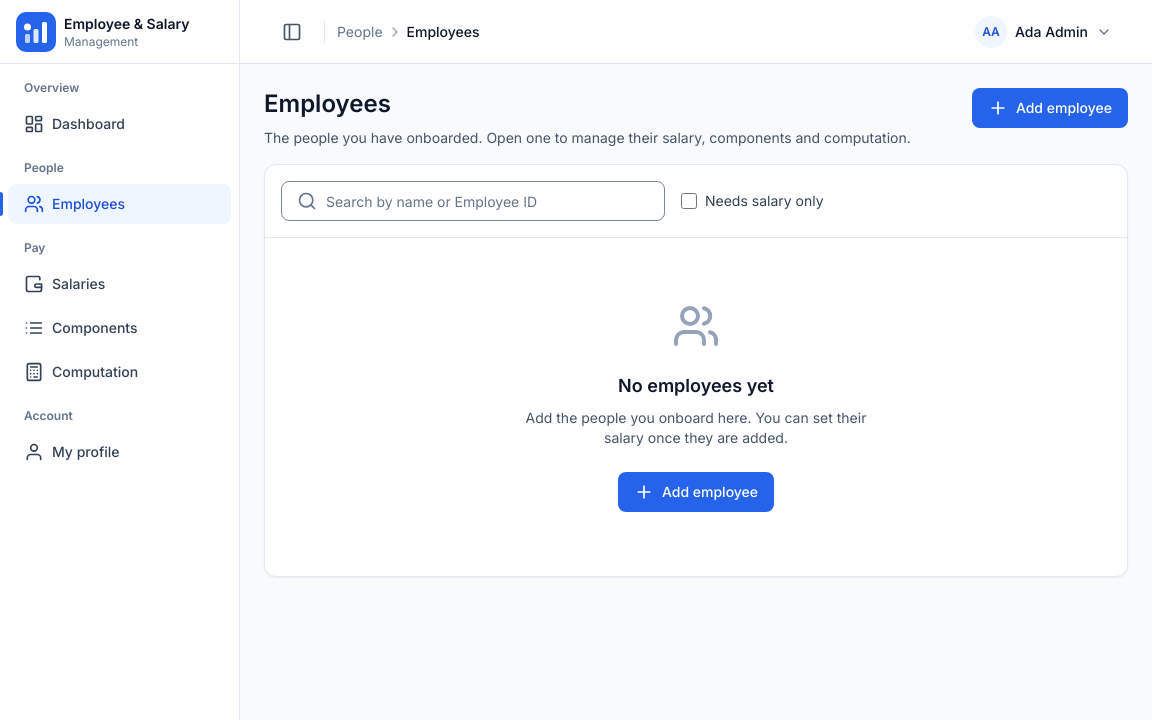
Test: Employees page › adding › rejects a hire date in the future
Expected: the heading "No employees yet" is shown, x1=618 y1=372 x2=774 y2=400
Click the 1st button "Add employee": (1050, 108) x1=972 y1=88 x2=1128 y2=128
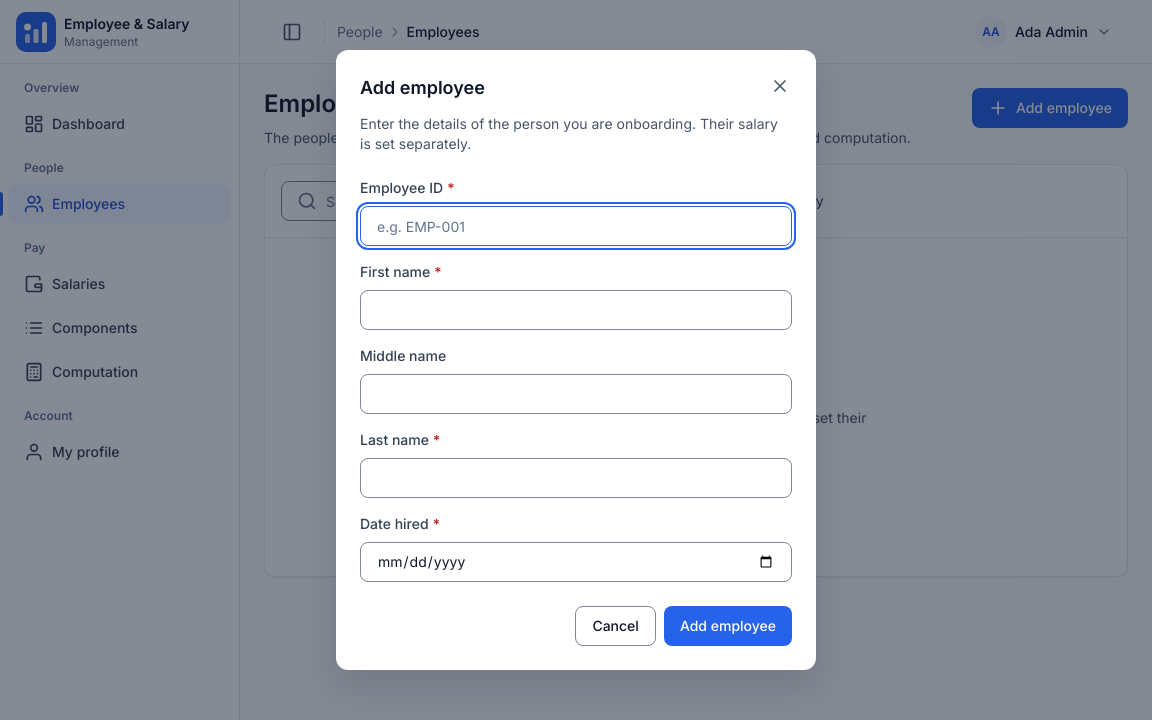
In the field labelled "Employee ID*": (576, 226) x1=360 y1=206 x2=792 y2=246, type "EMP-901"
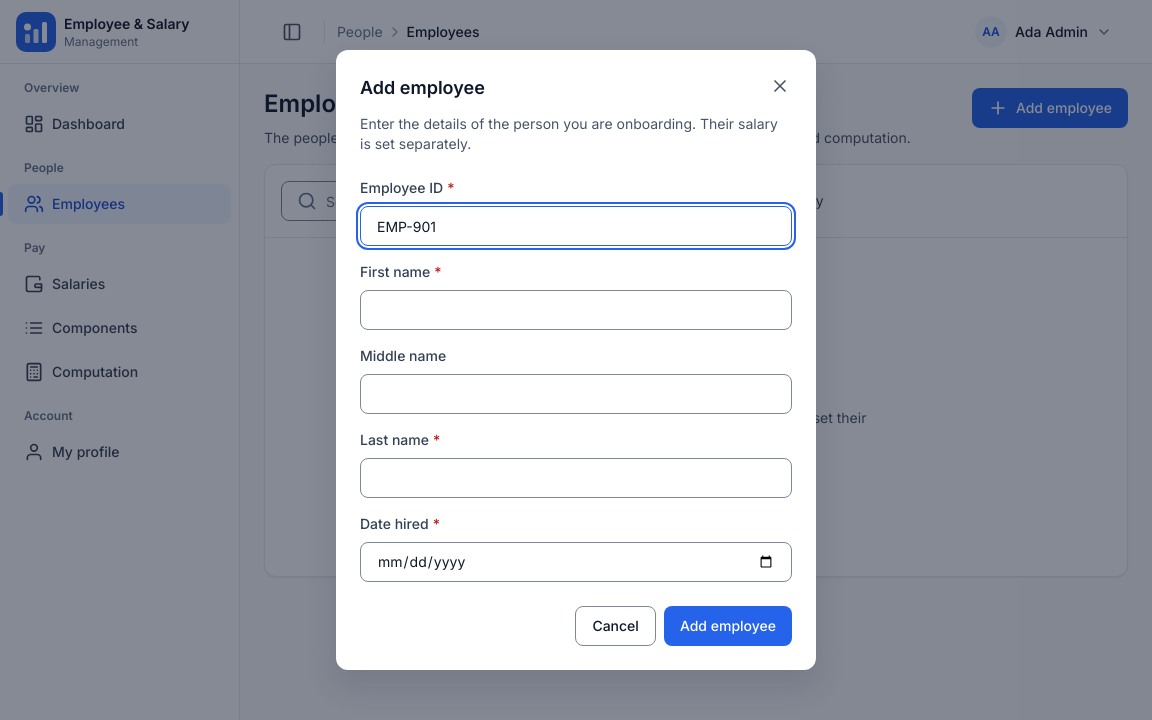
In the field labelled "First name*": (576, 310) x1=360 y1=290 x2=792 y2=330, type "A"
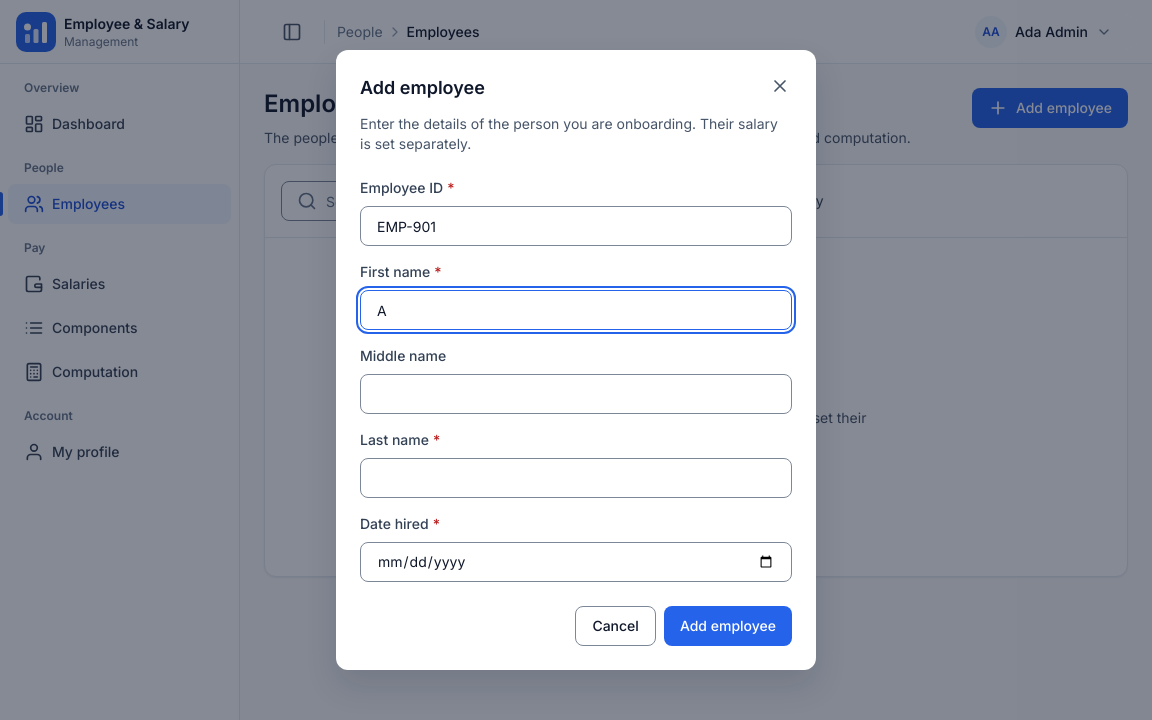
In the field labelled "Last name*": (576, 478) x1=360 y1=458 x2=792 y2=498, type "B"
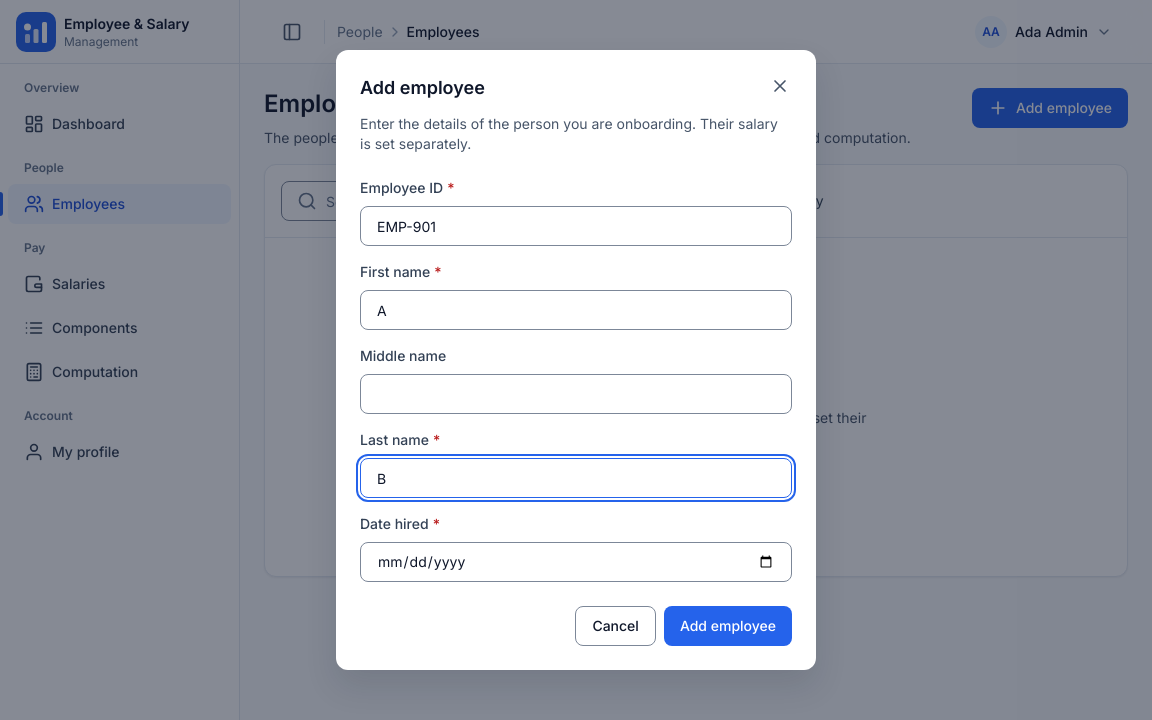
In the date field labelled "Date hired*": (576, 562) x1=360 y1=542 x2=792 y2=582, type "2999-01-01"
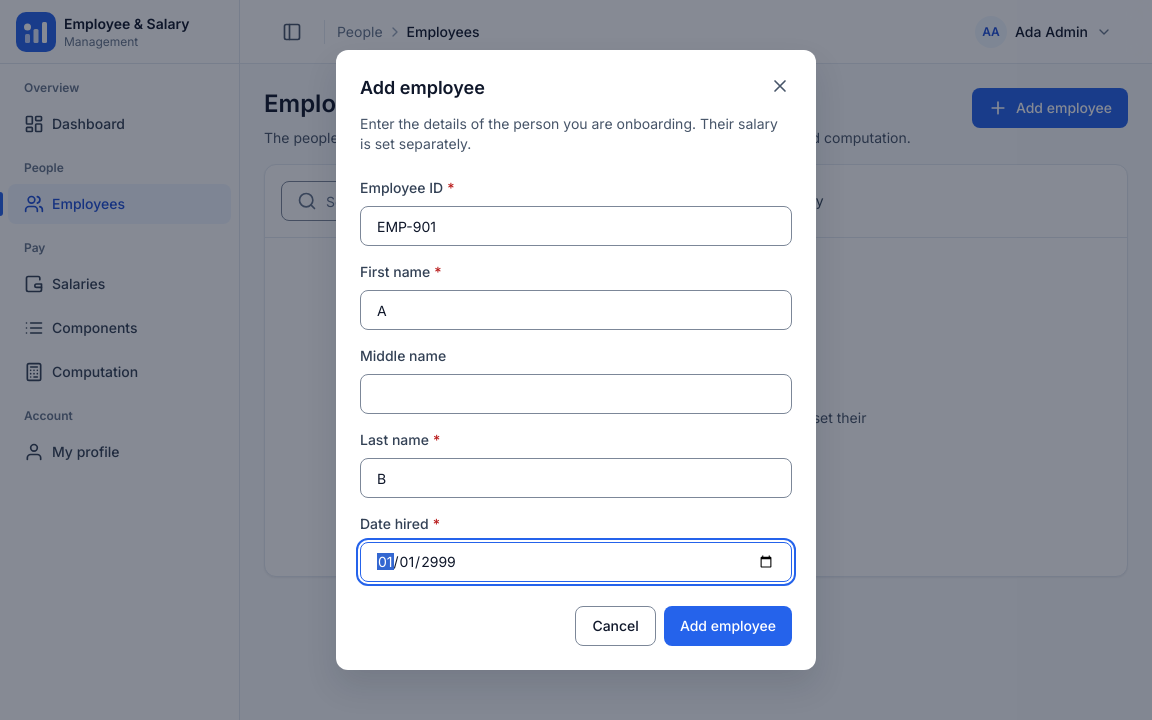
Click the button "Add employee": (728, 626) x1=664 y1=606 x2=792 y2=646
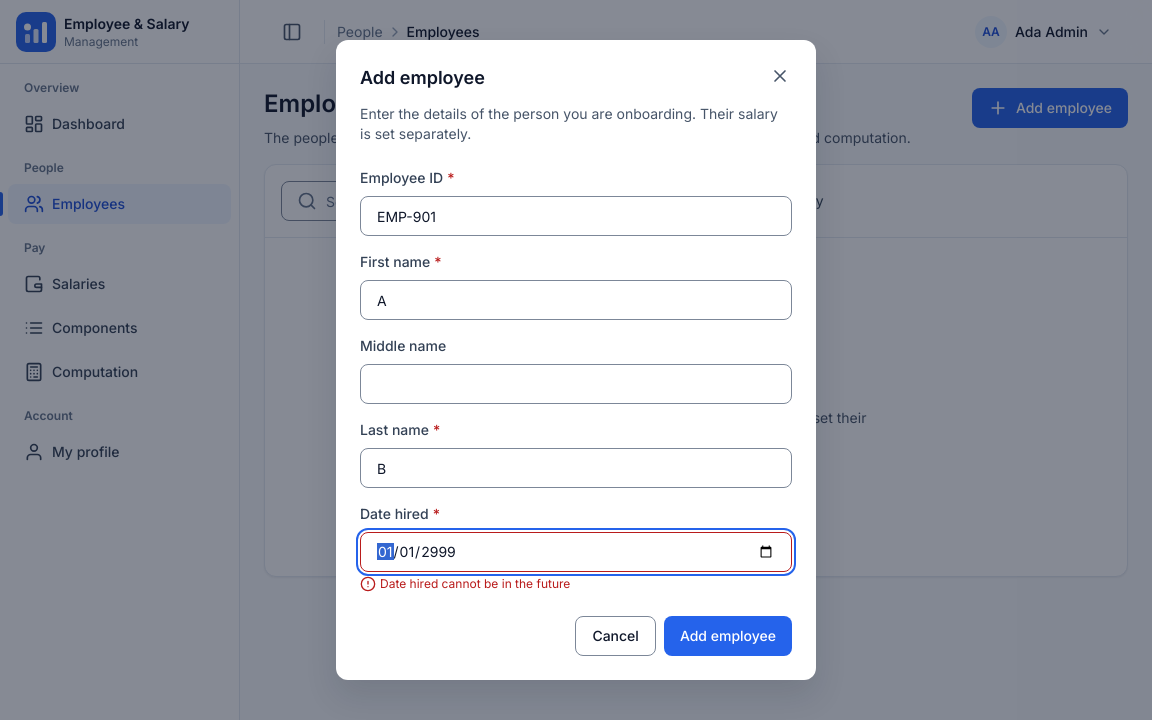
Expected: the text "Date hired cannot be in the future" is shown, x1=380 y1=576 x2=570 y2=592
